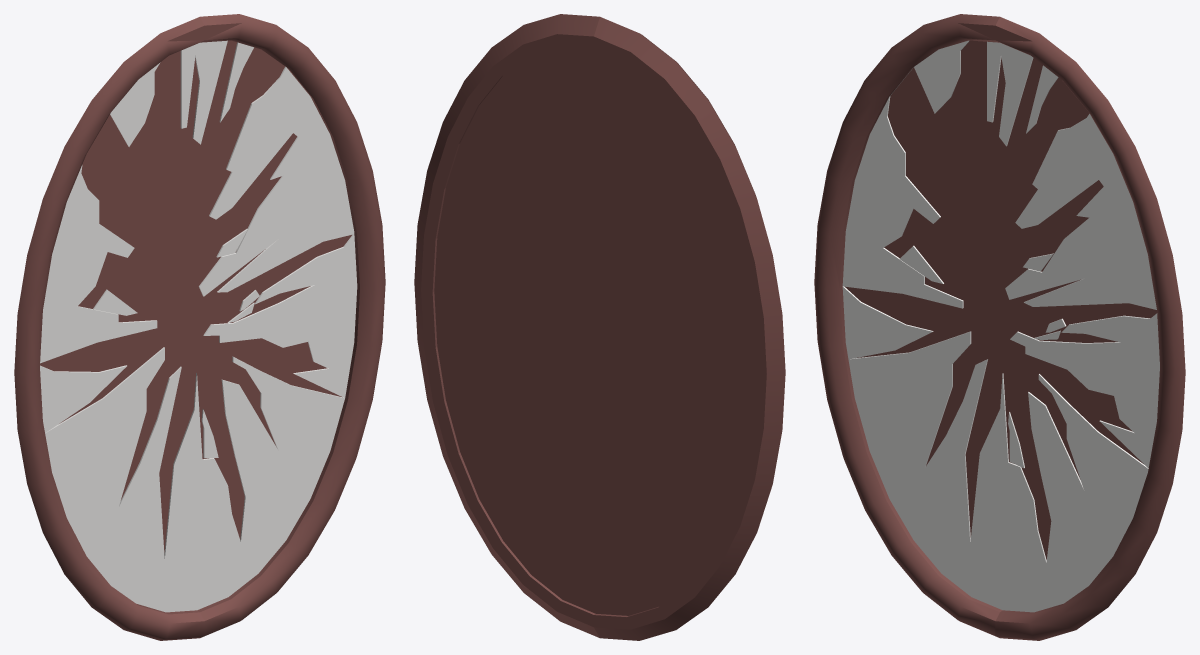
File: mirror.fbx
The picture shows the model from 3 angles, left to right: view 1: azimuth 30°, elevation 25°; view 2: azimuth 150°, elevation 25°; view 3: azimuth 330°, elevation 25°; orthographic projection.
Visible parts, largest first — view 1: Mesh2.001, Mesh1; view 2: Mesh1; view 3: Mesh1, Mesh2.001.
Boxes of the visible parts, <box> form: Mesh2.001: <box>40,40,357,612</box>; Mesh1: <box>14,14,385,640</box>; Mesh1: <box>414,14,785,640</box>; Mesh1: <box>814,14,1185,640</box>; Mesh2.001: <box>842,40,1159,612</box>.
Size of the model in its own units: 1.25 by 2 by 0.0619.
